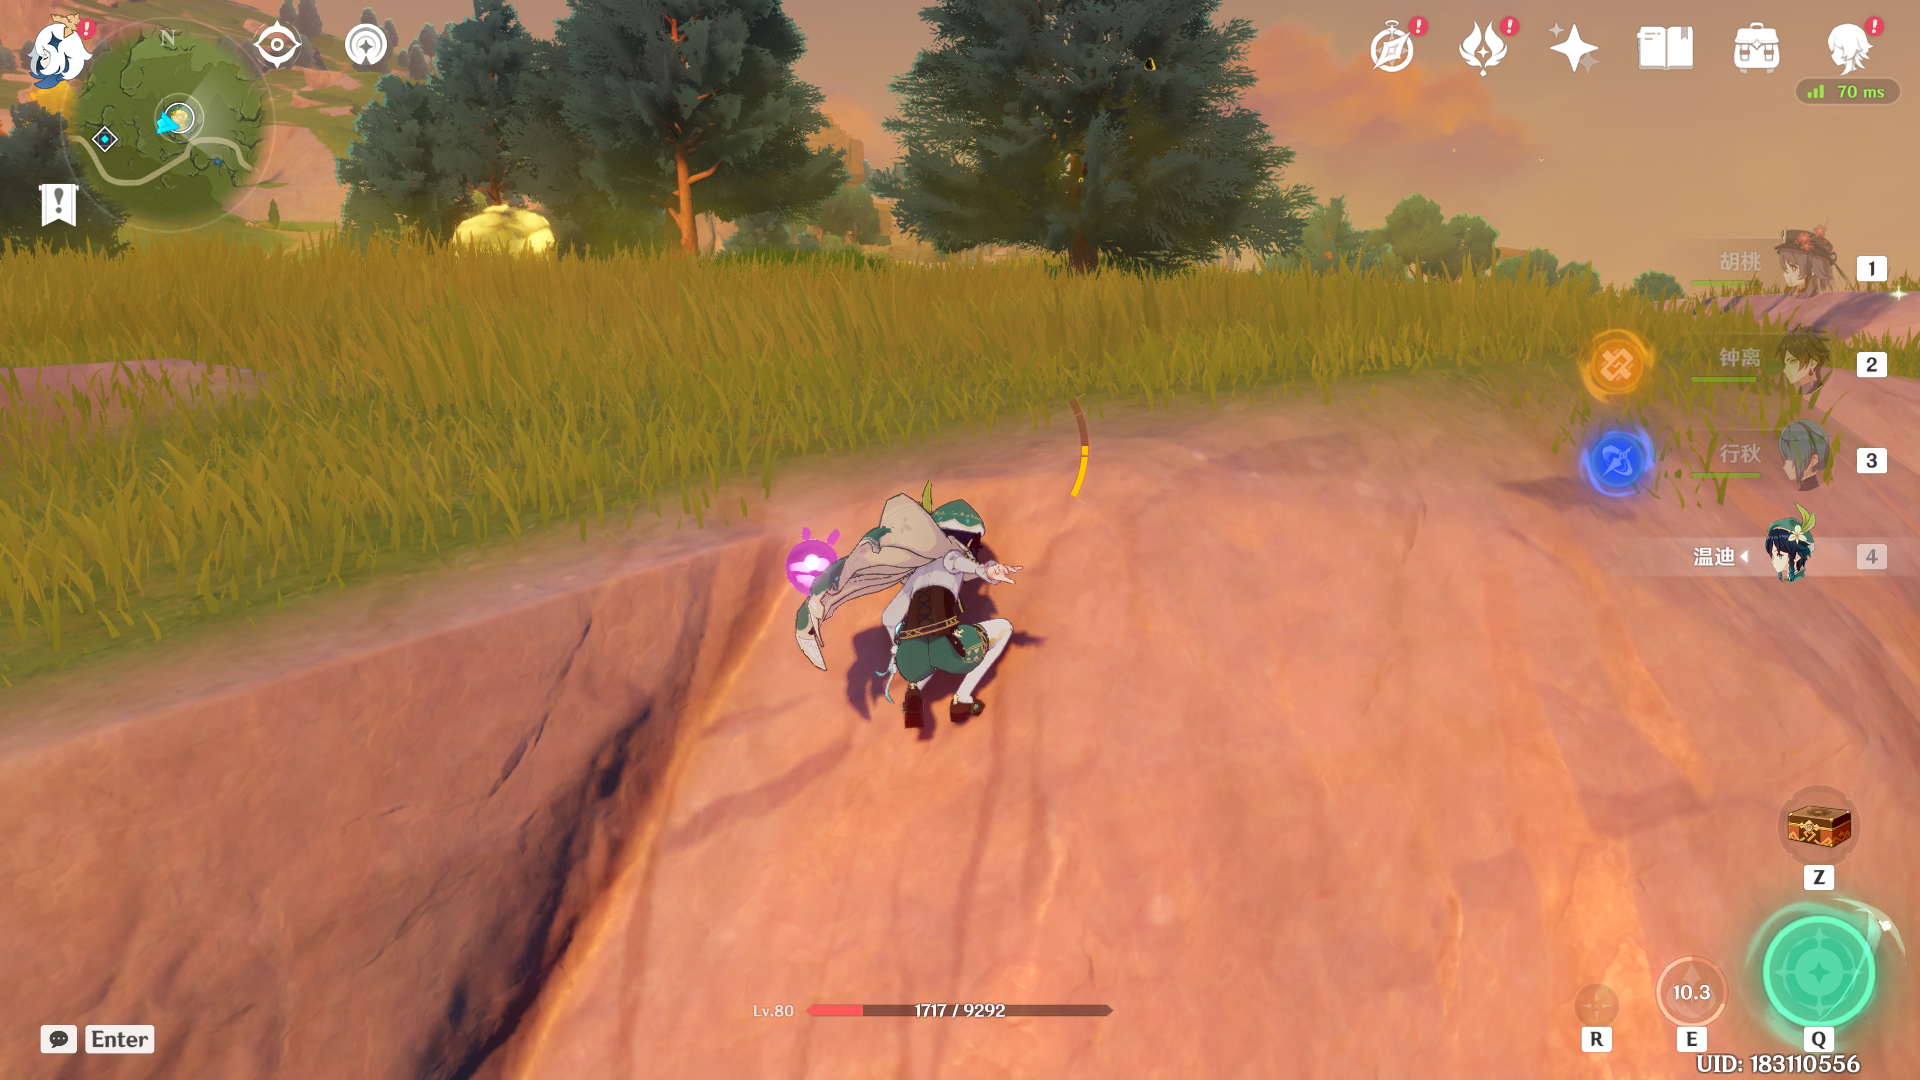character: (782, 417, 1079, 806)
